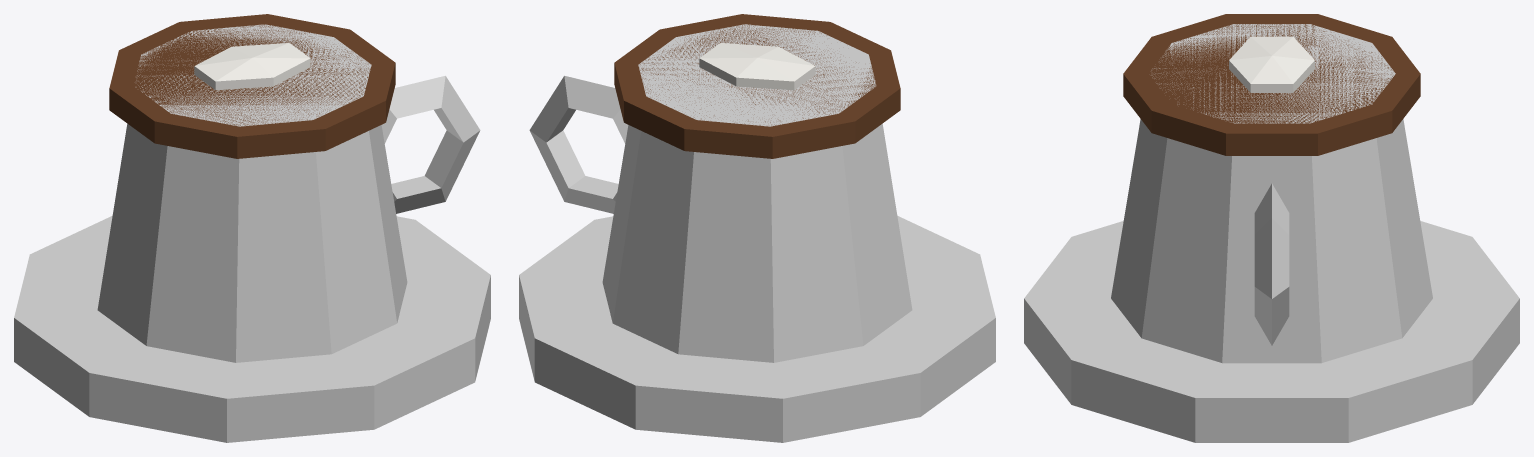
Rendered from good_coffee_cup.glb.
The picture shows the model from 3 angles, left to right: view 1: azimuth 30°, elevation 25°; view 2: azimuth 150°, elevation 25°; view 3: azimuth 270°, elevation 25°; orthographic projection.
Parts seen in each view (by area): view 1: good_coffee_cup; view 2: good_coffee_cup; view 3: good_coffee_cup.
Part boxes in pixels (x1=…): good_coffee_cup: x1=14, y1=14, x2=490, y2=442; good_coffee_cup: x1=519, y1=14, x2=995, y2=442; good_coffee_cup: x1=1024, y1=14, x2=1519, y2=442.
Size of the model in its own units: 0.2031 by 0.128 by 0.2.
